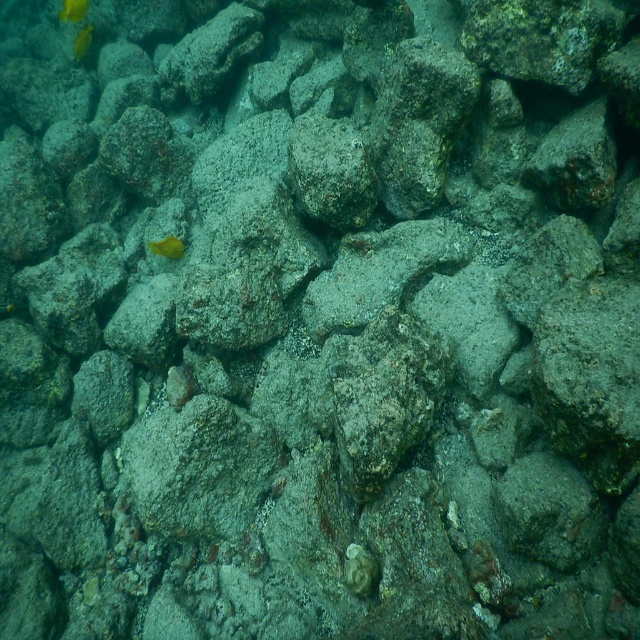Fish: (72, 20, 96, 62), (150, 235, 185, 261), (62, 3, 88, 29)
